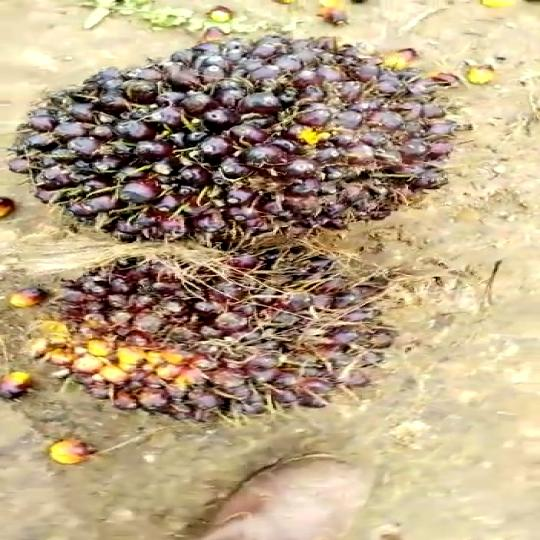kurang masak: (0, 34, 491, 253), (27, 232, 412, 438)
